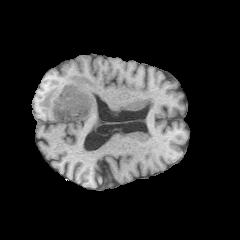glioma: (39, 76, 99, 122)
